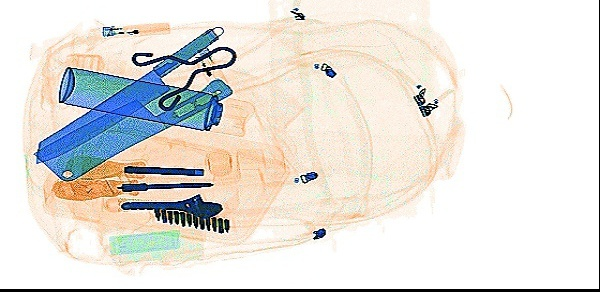knife: (33, 23, 223, 164), (30, 76, 231, 182)
lighter: (197, 44, 228, 93), (98, 19, 170, 38)
pressure: (55, 64, 254, 136)
slingshot: (129, 43, 237, 112)
